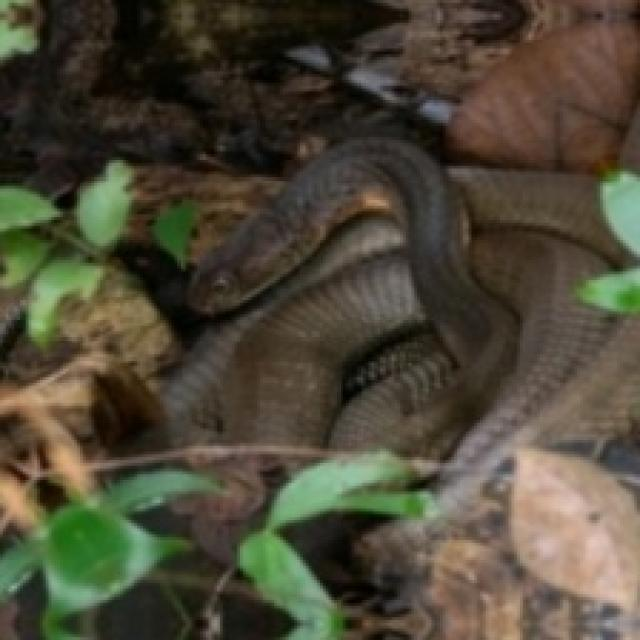king cobra: (163, 137, 626, 514)
